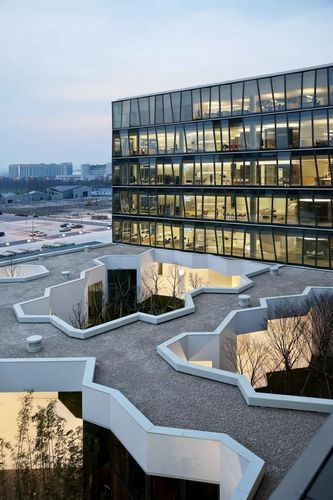buildings: (103, 62, 333, 281), (164, 305, 330, 404)
